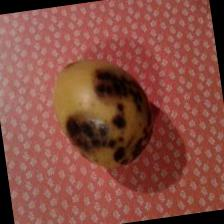Mango Rotten: (47, 46, 164, 172)
